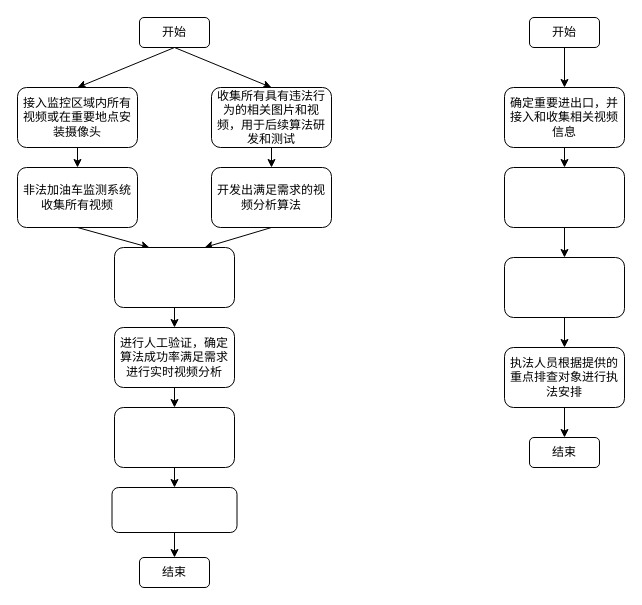
Image size: 642x605. Some labels were removed from this diagram. Here are the shapes that lost their labels. From the top down, the centre of each, then its label:
At point (564, 197): "进行车型分析，和车辆出入次数分析".
At point (174, 277): "用算法对收集到的视频进行分析并进行违法统计和证据处理".
At point (564, 287): "对满足要求的违法车辆进行统计并列为执法重点排查对象".
At point (174, 437): "进行实时视频分析，进行违法统计和证据处理，同时发出警告信息".
At point (174, 509): "警务人员进行证据确认和执法处理".
